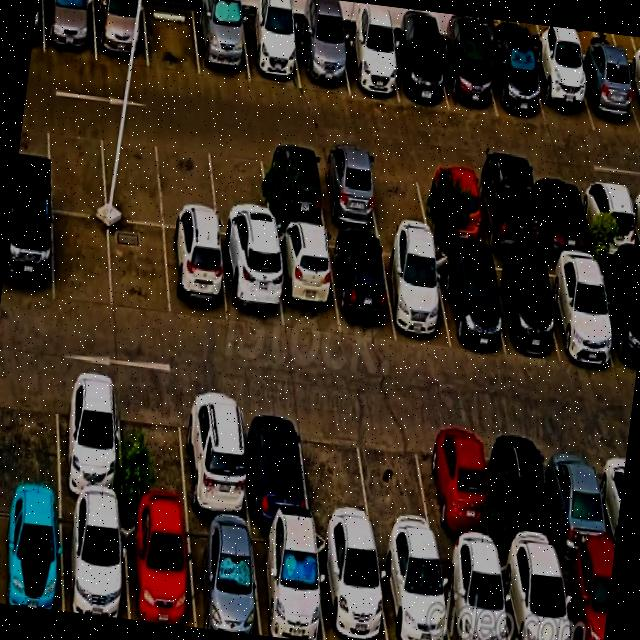empty: (356, 414, 436, 545), (299, 408, 373, 538), (118, 382, 187, 515), (0, 368, 59, 496), (100, 124, 163, 226), (208, 138, 270, 240), (109, 220, 170, 318), (47, 116, 106, 216), (158, 132, 217, 232), (53, 212, 112, 308), (366, 155, 429, 236), (143, 0, 199, 75)
occupied: (421, 420, 493, 552), (180, 390, 249, 522), (543, 433, 613, 563), (240, 398, 309, 527), (185, 517, 260, 635), (492, 426, 558, 557), (57, 373, 122, 506), (122, 509, 195, 627), (251, 526, 324, 640), (542, 256, 616, 365), (61, 500, 128, 619), (315, 532, 387, 640), (433, 249, 505, 355), (380, 241, 450, 348), (485, 254, 558, 356), (0, 495, 62, 611), (376, 542, 449, 640), (328, 234, 395, 338), (437, 546, 510, 640), (274, 228, 338, 334), (498, 553, 571, 640), (164, 228, 227, 322), (219, 236, 282, 329), (472, 168, 540, 254), (419, 162, 484, 245), (261, 145, 325, 229), (574, 56, 640, 136), (0, 202, 52, 302), (529, 51, 594, 131), (316, 150, 379, 232), (596, 261, 640, 374), (530, 173, 591, 254), (580, 177, 640, 259), (486, 43, 546, 124), (439, 38, 497, 116), (558, 558, 613, 640), (388, 36, 448, 109), (241, 14, 300, 88), (193, 6, 249, 82), (339, 30, 398, 102), (294, 24, 349, 93), (93, 0, 148, 66), (43, 0, 96, 59), (623, 63, 640, 129)
